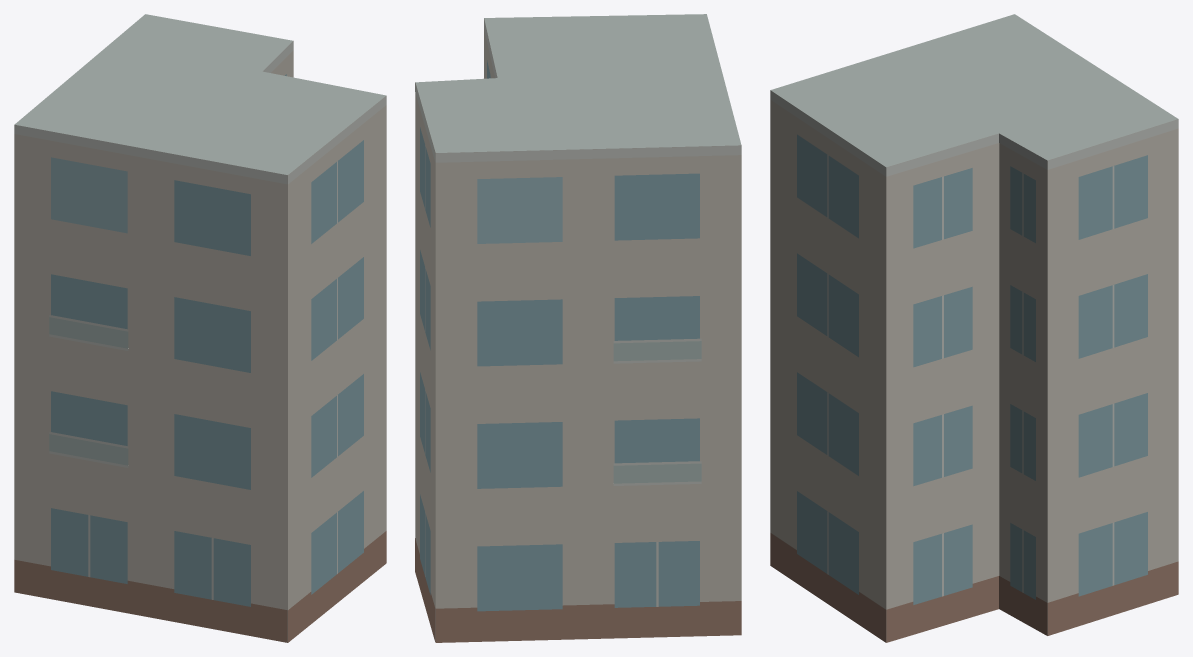
The model's file is survey-upis-32474208.glb.
The picture shows the model from 3 angles, left to right: view 1: azimuth 30°, elevation 25°; view 2: azimuth 150°, elevation 25°; view 3: azimuth 270°, elevation 25°; orthographic projection. The views are drawn at different scales.
Visible parts, largest first — view 1: survey-upis-32474208.tmp; view 2: survey-upis-32474208.tmp; view 3: survey-upis-32474208.tmp.
Boxes of the visible parts, x1=… form: survey-upis-32474208.tmp: x1=14, y1=14, x2=386, y2=642; survey-upis-32474208.tmp: x1=415, y1=14, x2=741, y2=642; survey-upis-32474208.tmp: x1=770, y1=14, x2=1178, y2=642.
Bounding box in the file's own units: 8.52 × 12.3 × 9.58.
